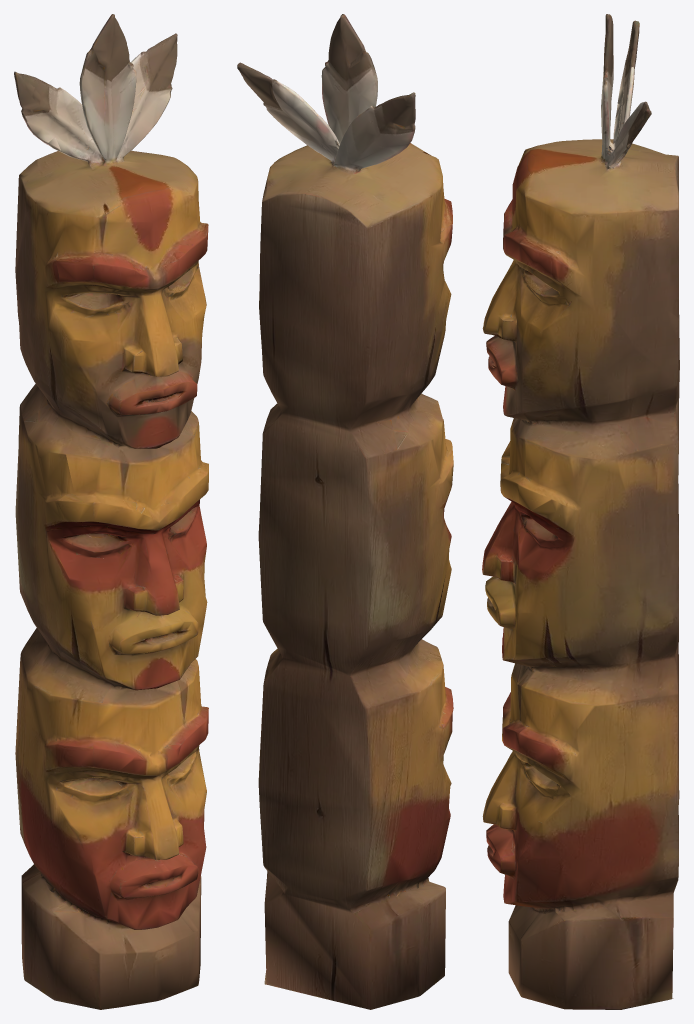
The model's file is totem.glb.
The picture shows the model from 3 angles, left to right: view 1: azimuth 30°, elevation 25°; view 2: azimuth 150°, elevation 25°; view 3: azimuth 270°, elevation 25°; orthographic projection.
Visible parts, largest first — view 1: Mesh_0; view 2: Mesh_0; view 3: Mesh_0.
Part boxes in pixels (left/top/right/bottom): Mesh_0: left=14, top=14, right=208, bottom=1009; Mesh_0: left=237, top=14, right=453, bottom=1009; Mesh_0: left=482, top=14, right=679, bottom=1009.
Bounding box in the file's own units: 0.3551 × 1.91 × 0.356.
1 material, 1 textured.
